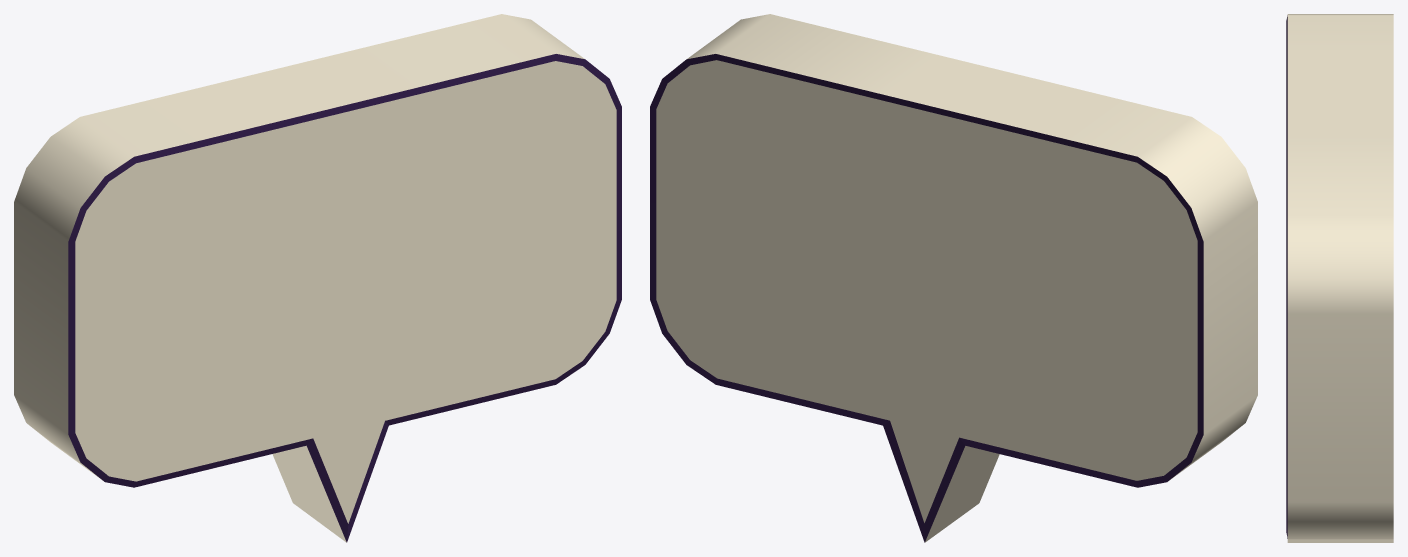
Rendered from tekstwolk_v2.fbx.
3 renders of one model, left to right at view 1: azimuth 30°, elevation 25°; view 2: azimuth 150°, elevation 25°; view 3: azimuth 270°, elevation 25°, orthographic. The views are drawn at different scales.
Visible parts, largest first — view 1: textbox; view 2: textbox; view 3: textbox.
Part boxes in pixels (x1=…): textbox: x1=14, y1=14, x2=621, y2=542; textbox: x1=650, y1=14, x2=1257, y2=542; textbox: x1=1286, y1=14, x2=1393, y2=542.
Size of the model in its own units: 1.75 by 1.32 by 0.3016.
Materials: 1 (1 with a texture image).
